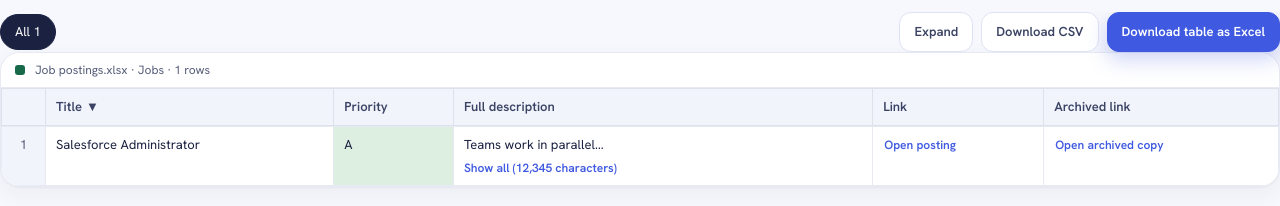
Test: a cut cell offers the whole cell and fetches it from the cell route under the page's order
What coordinates should you click on to do the following:
click the button with aria-label "Show the whole Full description cell of row 1"
I would click on:
 (540, 168)
Its box is [464,158,617,176].
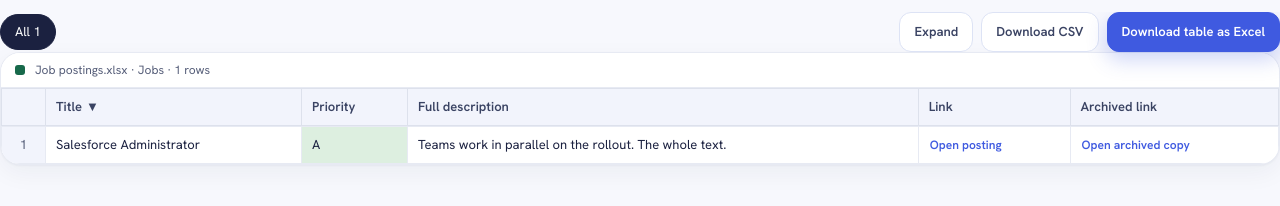
Result: the text "Teams work in parallel on the rollout. The whole text." is shown at [418,136,726,153]
